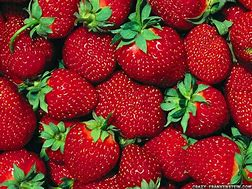Fresa: (95, 69, 168, 141), (116, 23, 187, 91), (64, 119, 121, 185), (169, 81, 232, 139), (185, 133, 248, 189), (183, 23, 234, 87), (41, 67, 100, 121), (63, 25, 118, 82), (1, 76, 38, 150), (25, 1, 86, 39), (146, 1, 218, 32), (119, 141, 163, 189), (226, 63, 252, 139), (1, 147, 48, 189), (78, 1, 132, 31)
